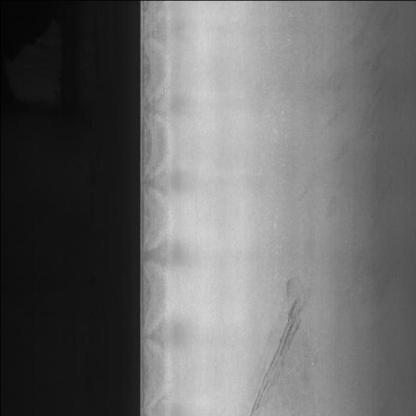water_spot: (239, 262, 317, 412)
